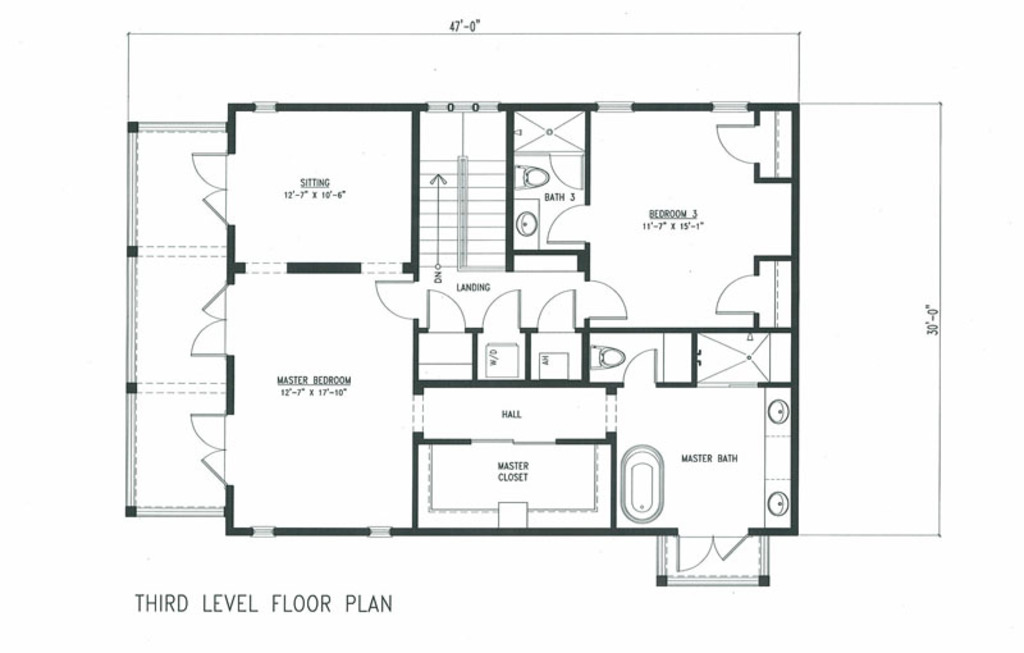door: (186, 411, 231, 485), (190, 149, 234, 222), (671, 529, 745, 571), (190, 285, 229, 360), (706, 271, 758, 319), (423, 287, 468, 333), (712, 121, 757, 167), (534, 289, 581, 333), (477, 287, 526, 329), (372, 277, 419, 320), (543, 203, 592, 244), (586, 277, 630, 320), (620, 347, 661, 385), (548, 149, 585, 190)
large_sink: (513, 159, 550, 192)
small_sink: (510, 196, 541, 250), (761, 387, 791, 439), (763, 478, 792, 528)
stairs: (414, 113, 509, 285)
tub: (617, 441, 669, 523)
windows: (421, 96, 506, 116), (246, 96, 289, 118), (706, 98, 752, 116), (591, 98, 635, 115), (248, 523, 282, 544), (361, 522, 397, 540)
